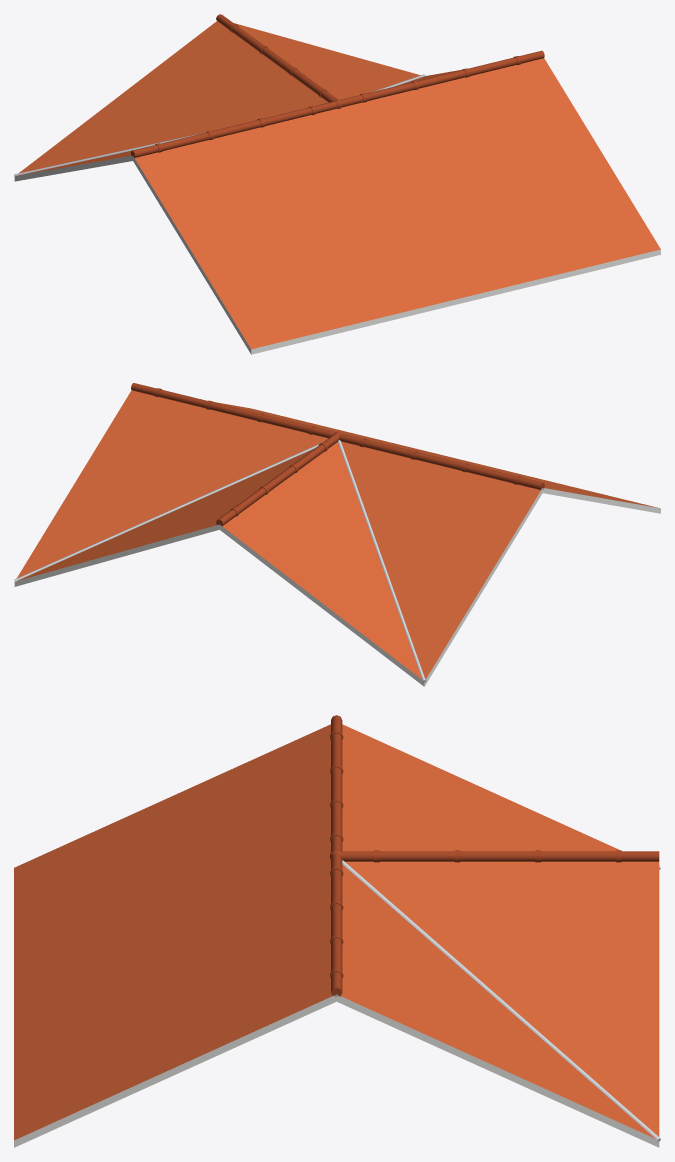
File: telhado_encontro_t_v8_i50.glb
3 renders of one model, top to bottom at view 1: azimuth 30°, elevation 25°; view 2: azimuth 150°, elevation 25°; view 3: azimuth 270°, elevation 25°, orthographic. The views are drawn at different scales.
Visible parts, largest first — view 1: telhado_encontro_t_v8_i50; view 2: telhado_encontro_t_v8_i50; view 3: telhado_encontro_t_v8_i50.
Boxes of the visible parts, box(x1,y1,x2,y2) form: telhado_encontro_t_v8_i50: box(14, 14, 660, 354); telhado_encontro_t_v8_i50: box(14, 383, 660, 686); telhado_encontro_t_v8_i50: box(14, 715, 660, 1147).
Size of the model in its own units: 8.04 by 2.21 by 8.02.
Materials: 4 (1 with a texture image).
